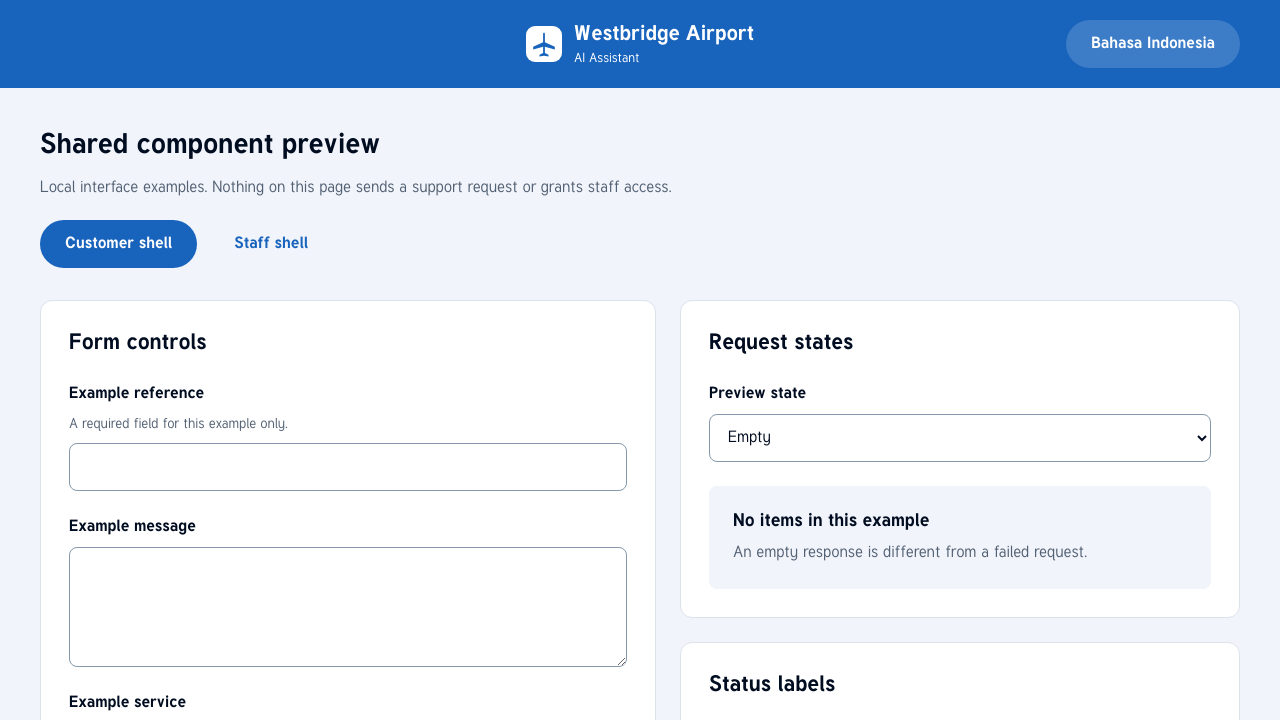
isolated component preview › preserves text and translates validation on language changes
Type "Keep this original text" into the text box labelled "Example message". click: (348, 607)
box: [69,547,627,667]
(page scrolled)
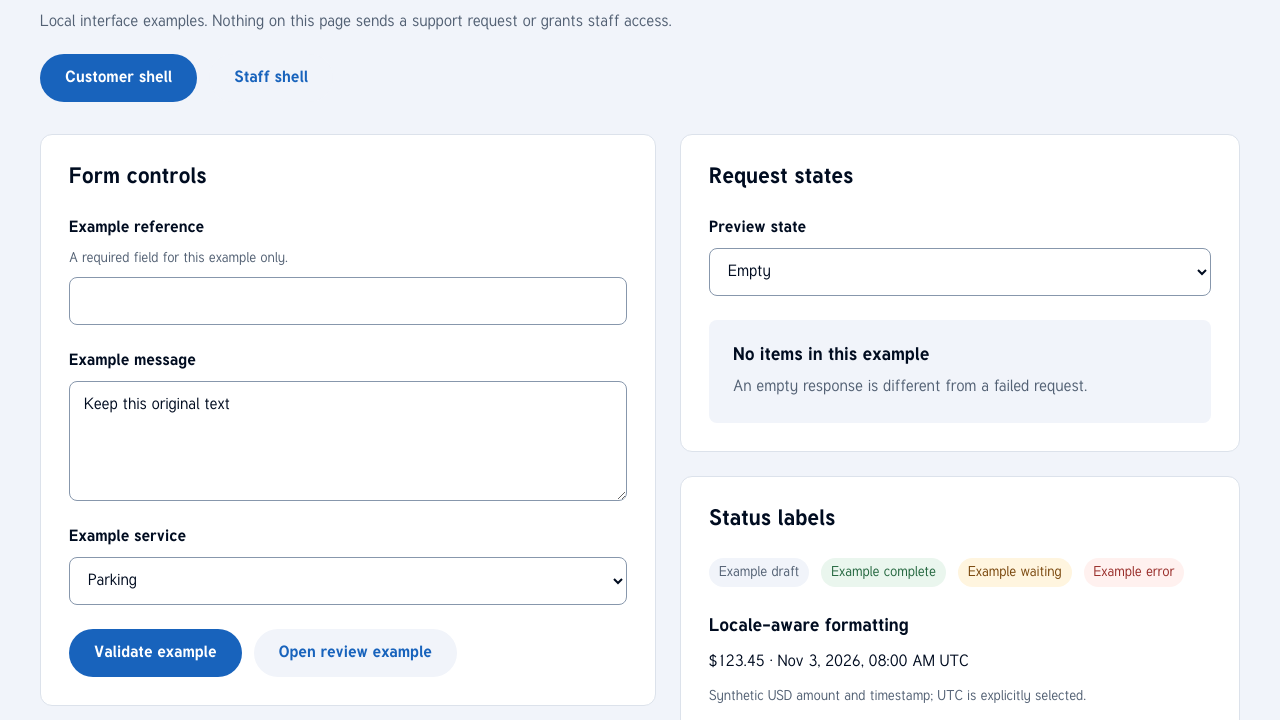
Click the button "Validate example". click: (155, 653)
box: [69,629,242,677]
(page scrolled)
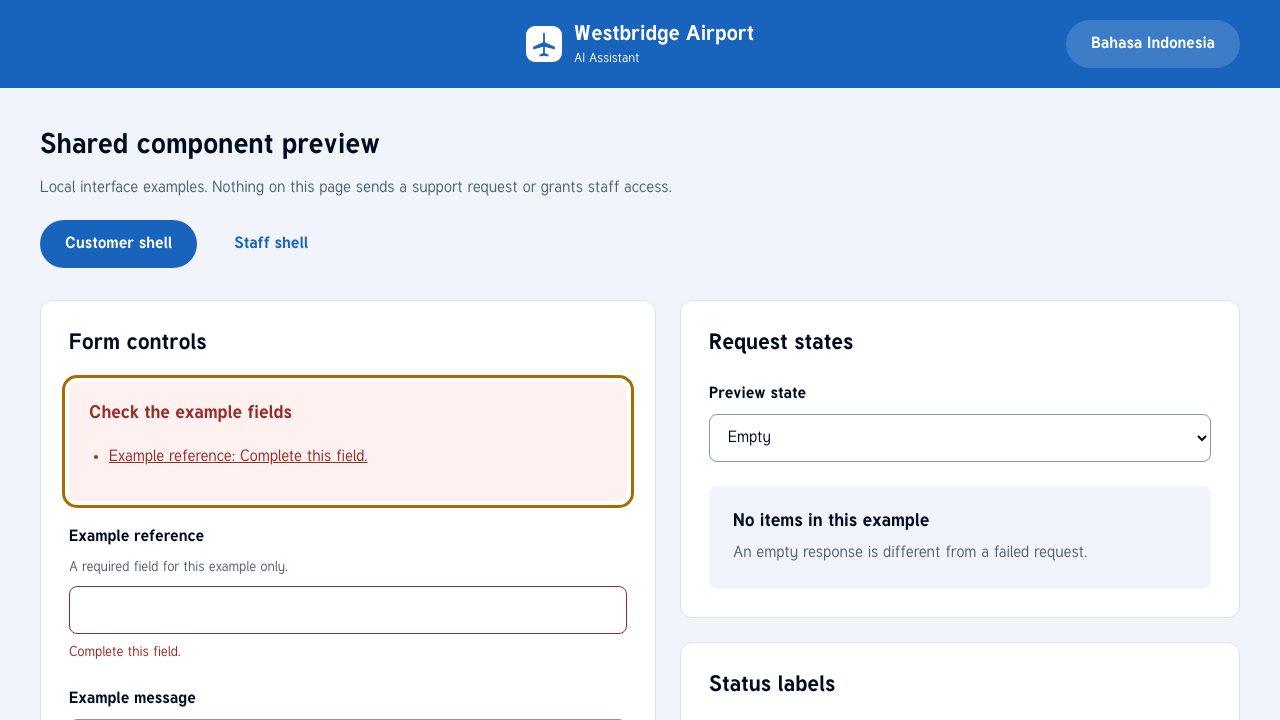
Click the button "Bahasa Indonesia". click: (1153, 44)
box: [1066,20,1240,68]
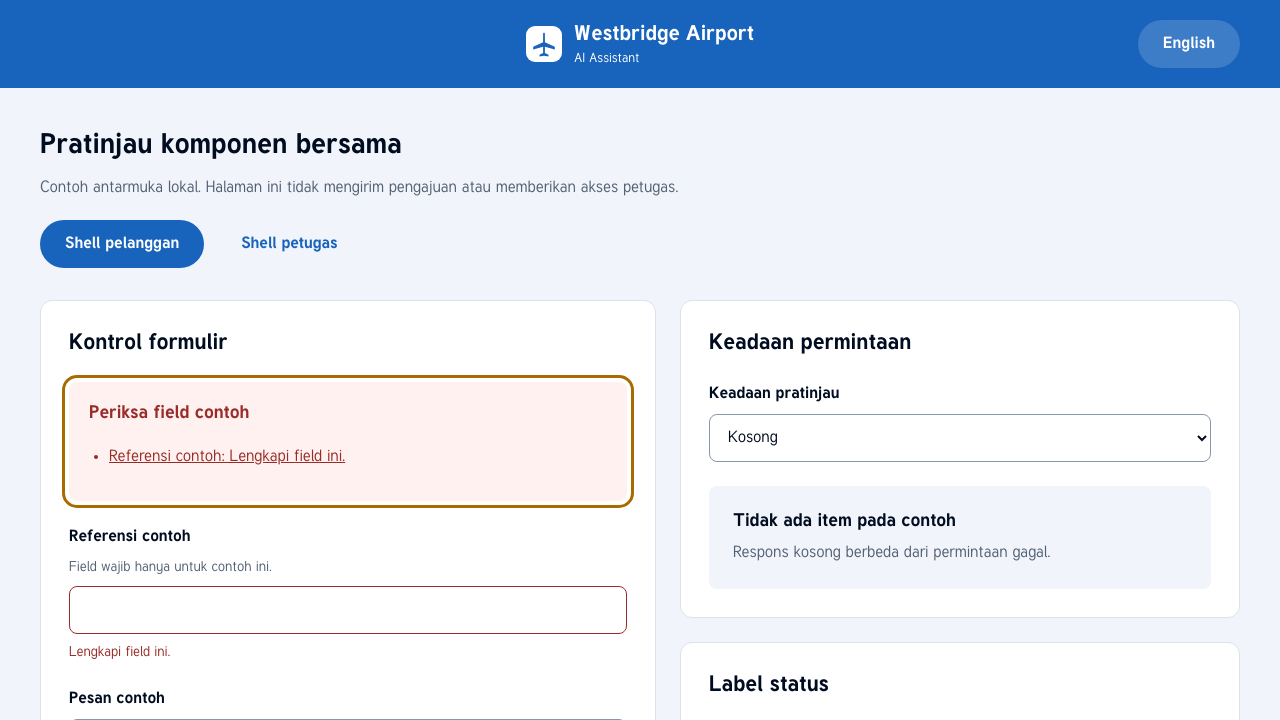
expect the link "Referensi contoh: Lengkapi field ini." is shown: met, box [109,449,345,465]
